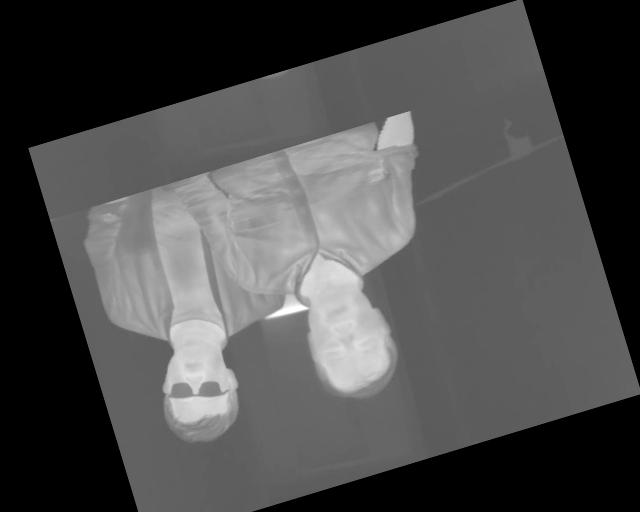face: (291, 271, 410, 411), (146, 332, 253, 453)
